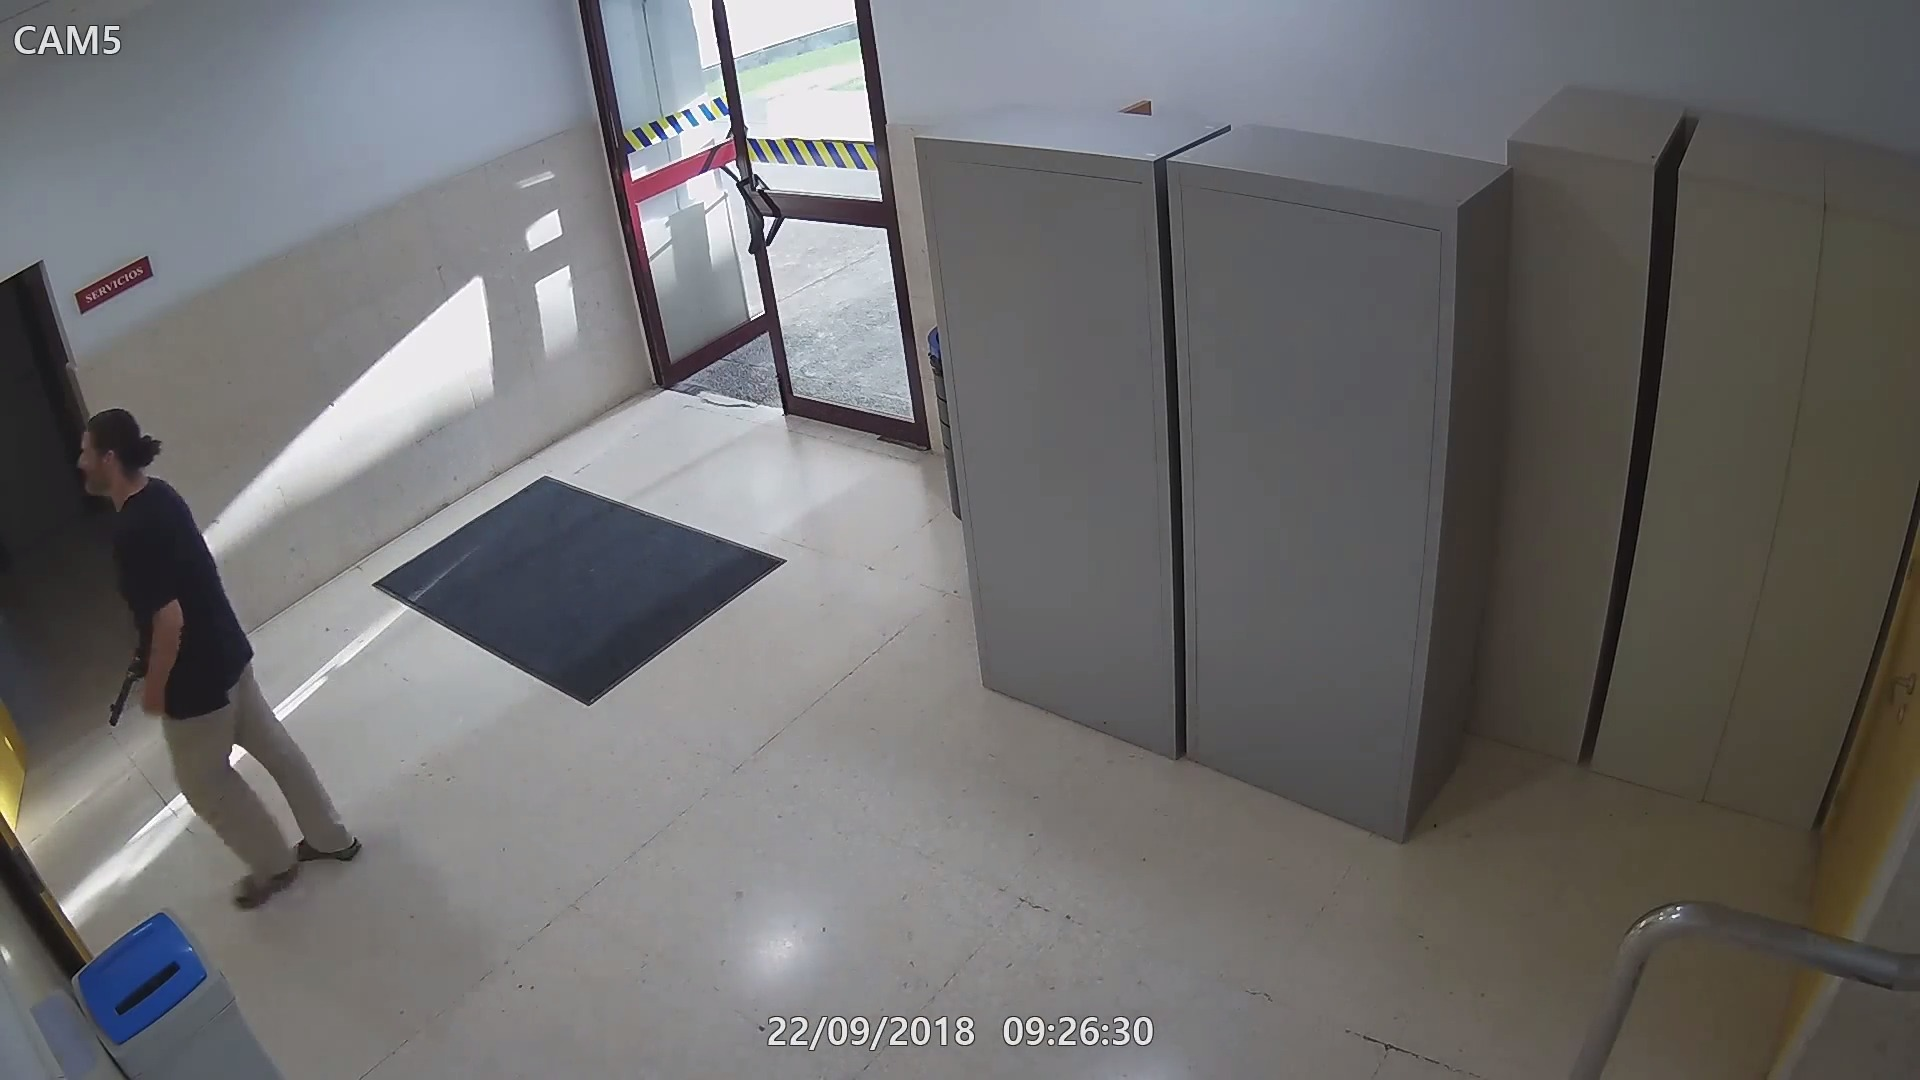Short_rifle: (105, 637, 156, 727)
